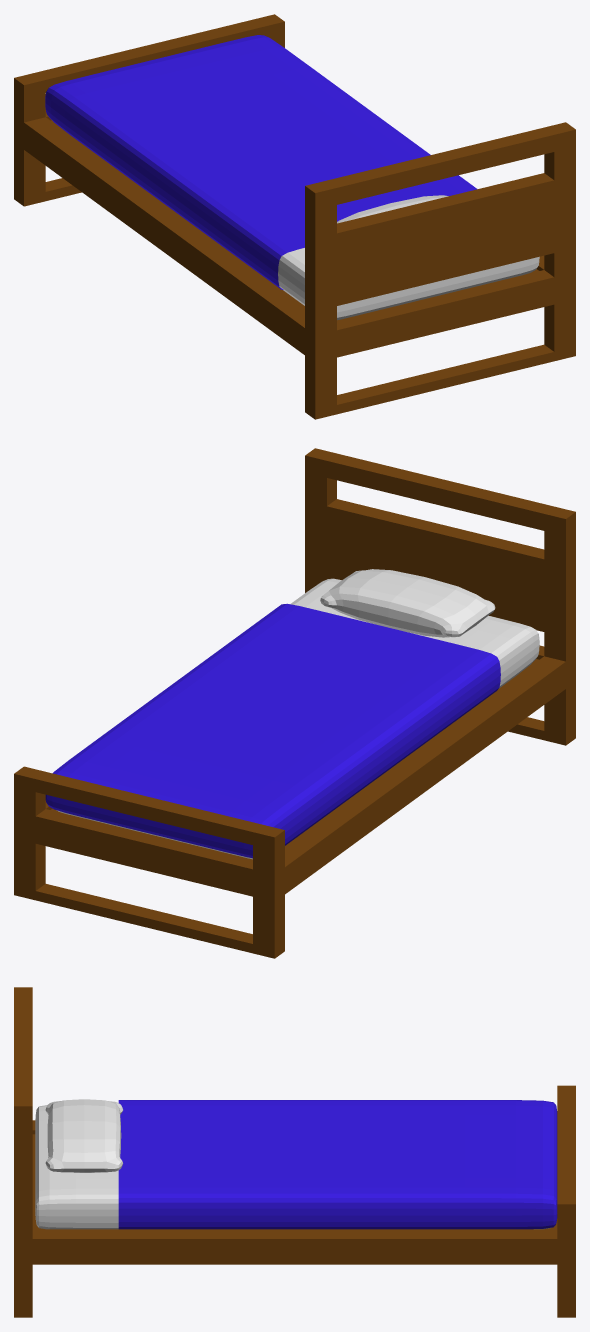
The model's file is Bed.fbx.
3 renders of one model, top to bottom at view 1: azimuth 30°, elevation 25°; view 2: azimuth 150°, elevation 25°; view 3: azimuth 270°, elevation 25°, orthographic. The views are drawn at different scales.
Visible parts, largest first — view 1: BedFrame, Sheet; view 2: BedFrame, Sheet; view 3: Sheet, BedFrame.
Part boxes in pixels (x1=…): BedFrame: x1=14, y1=14, x2=575, y2=419; Sheet: x1=45, y1=35, x2=477, y2=289; BedFrame: x1=14, y1=448, x2=575, y2=958; Sheet: x1=45, y1=603, x2=500, y2=858; Sheet: x1=118, y1=1100, x2=557, y2=1229; BedFrame: x1=14, y1=987, x2=575, y2=1317.
Bounding box in the file's own units: 1.37 × 1.14 × 2.74.
